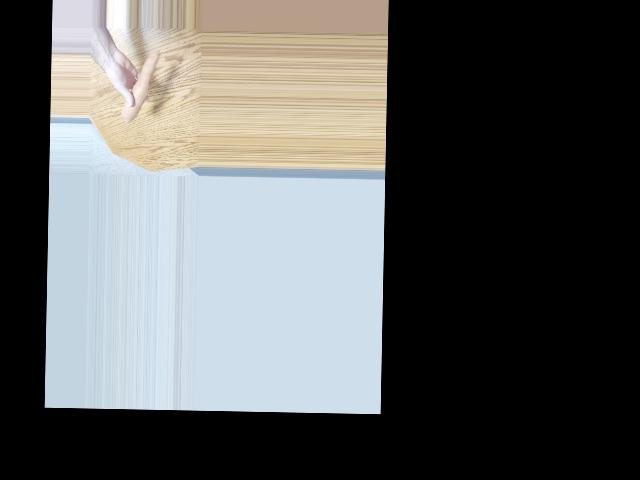sweet_potato: (129, 49, 154, 125)
